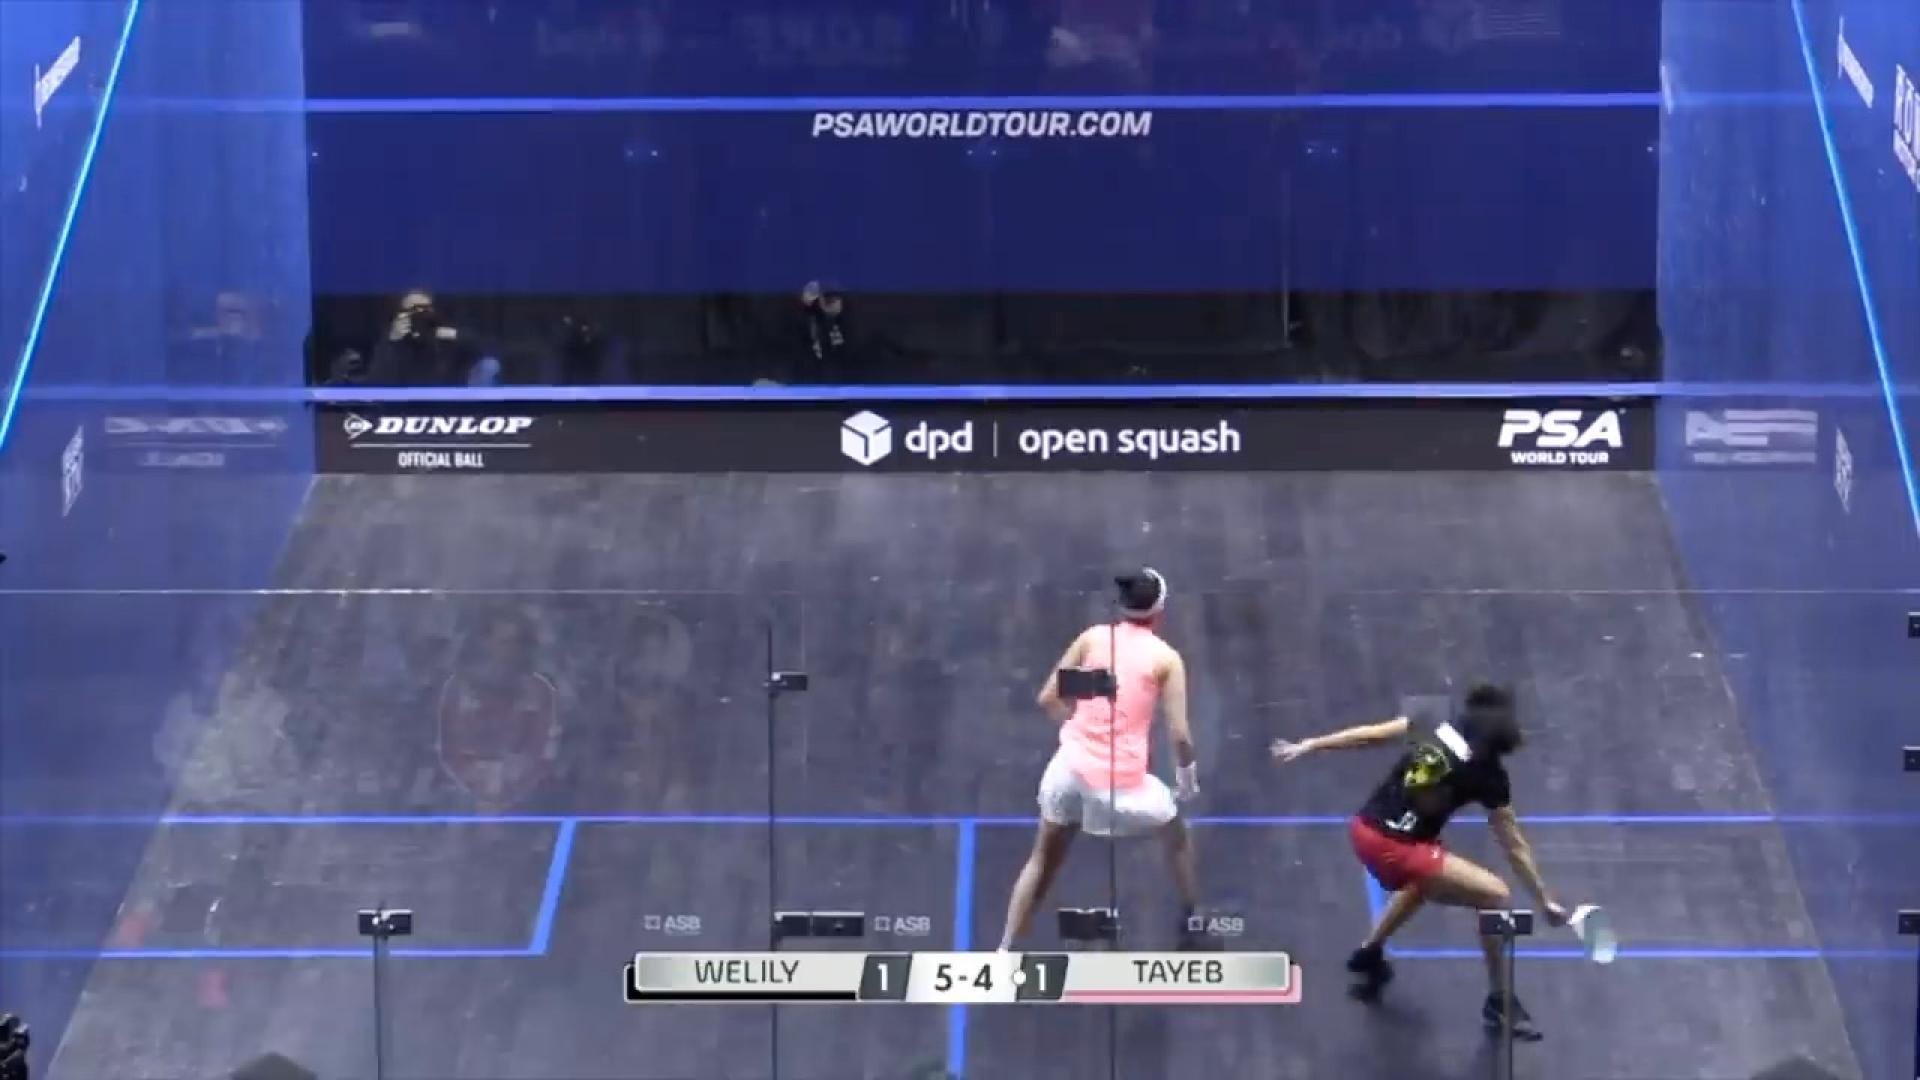Squash-Ball: (1643, 50, 1688, 125)
